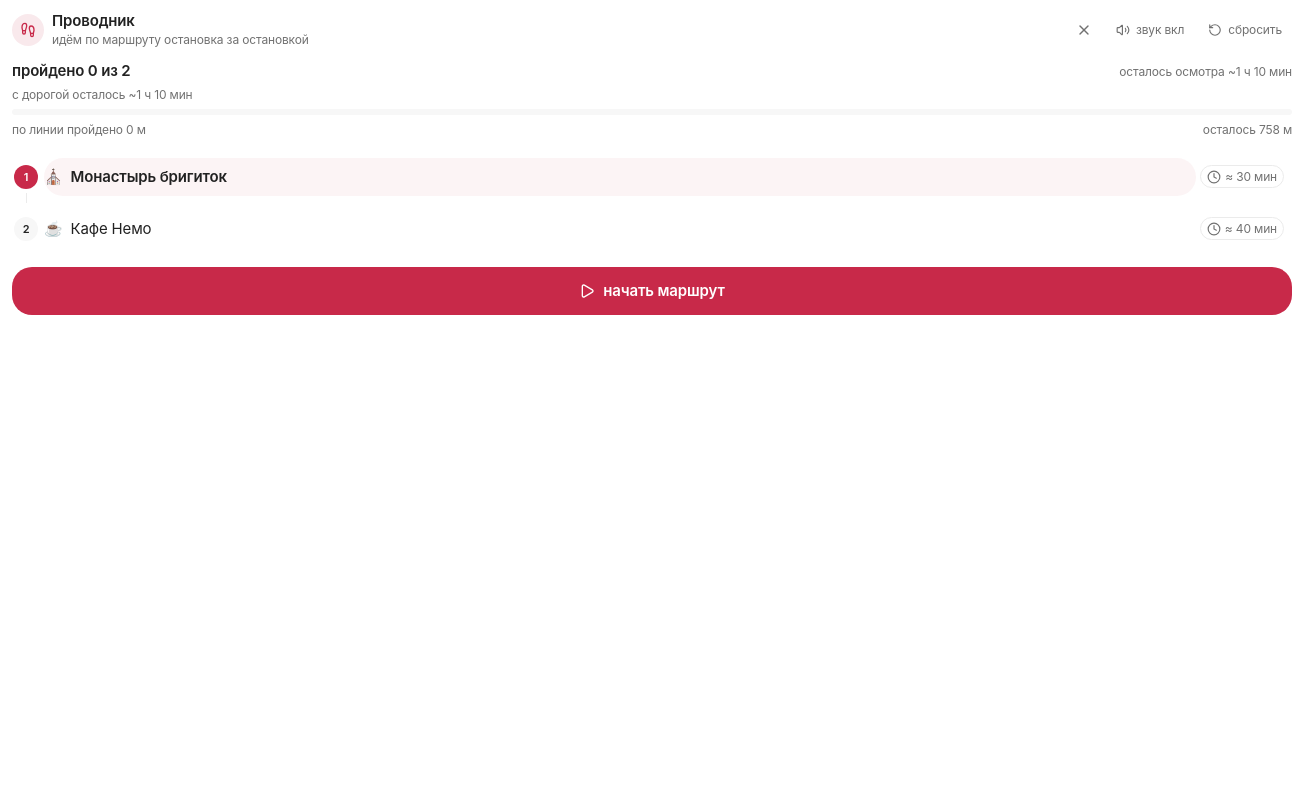
GuidePanel · режим движения › hands the screen to the navigator on «начать маршрут»
Click the button with test id "guide-start" at (652, 291), box [12,267,1292,315]
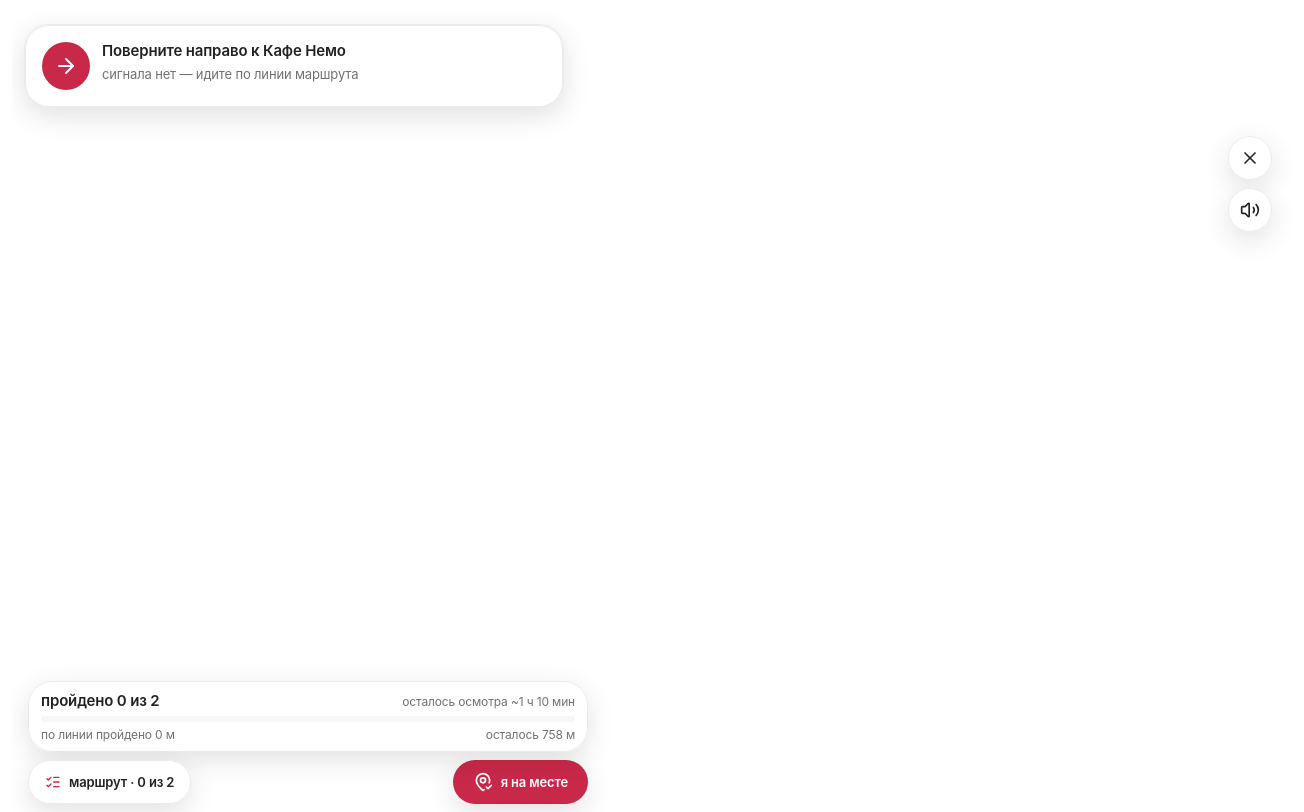
Expected: the element with test id "guide-maneuver" is shown, [24,24,564,108]
Expected: the button with test id "guide-advance" is shown, [453,760,588,804]
